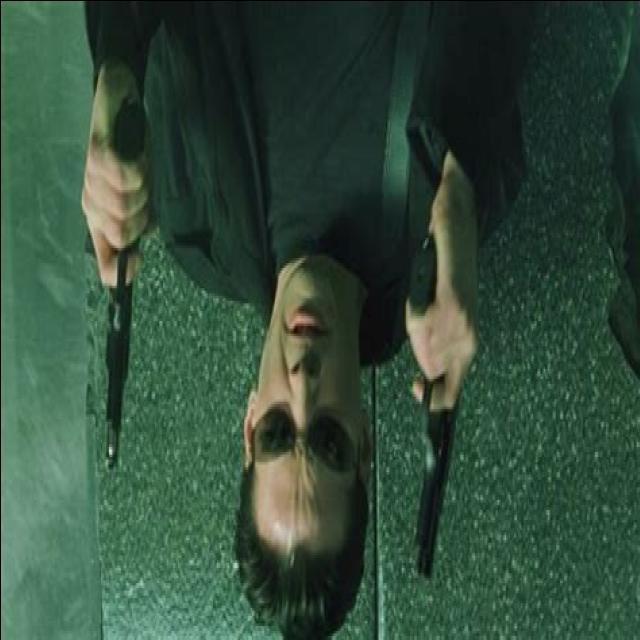weapons: (389, 232, 476, 612), (78, 80, 155, 509)
